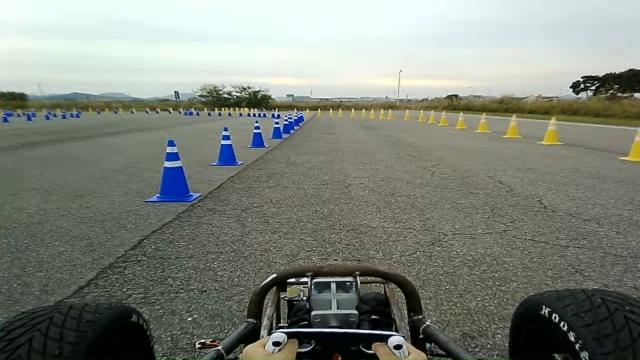blue cone: (143, 139, 202, 203), (209, 126, 244, 166), (247, 120, 268, 148), (268, 119, 284, 139)
yellow cone: (537, 116, 563, 145), (618, 127, 639, 162), (502, 113, 522, 138), (474, 112, 491, 132), (453, 111, 468, 129), (437, 110, 449, 126), (427, 110, 437, 124), (416, 108, 426, 122), (403, 108, 411, 120), (387, 108, 394, 120), (368, 108, 376, 118), (378, 108, 385, 119), (359, 108, 366, 118), (337, 107, 344, 117), (350, 107, 356, 118), (328, 106, 334, 116)
